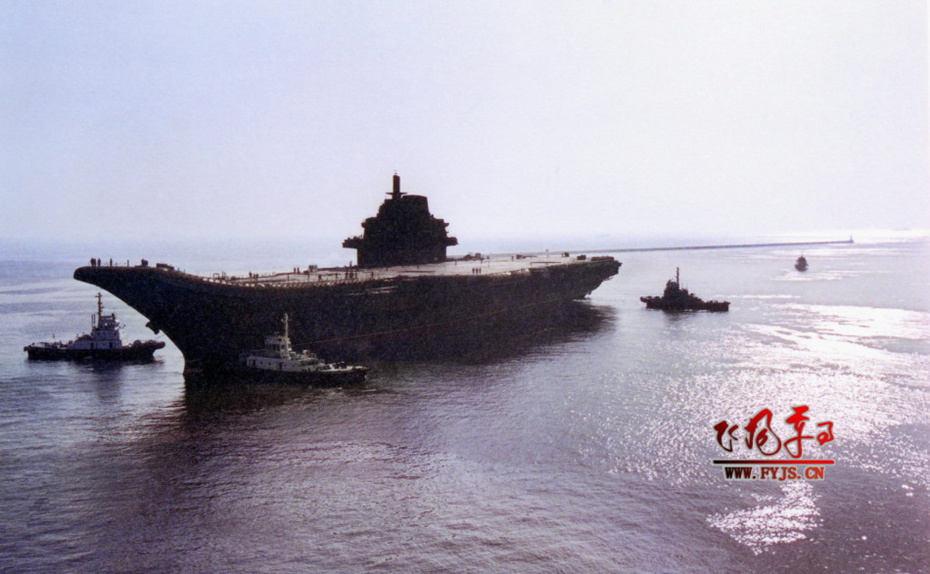Cargoship: (67, 165, 624, 349)
otherboat: (19, 291, 173, 368), (236, 315, 368, 391), (643, 275, 736, 315)
